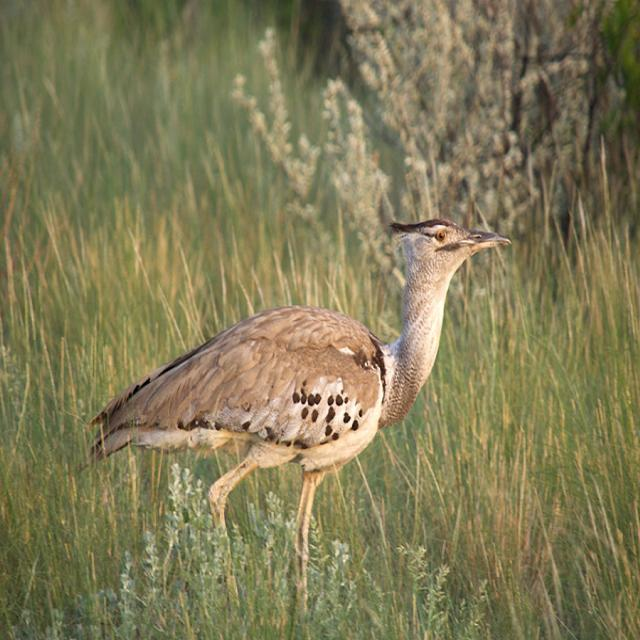bird: (75, 198, 515, 583)
